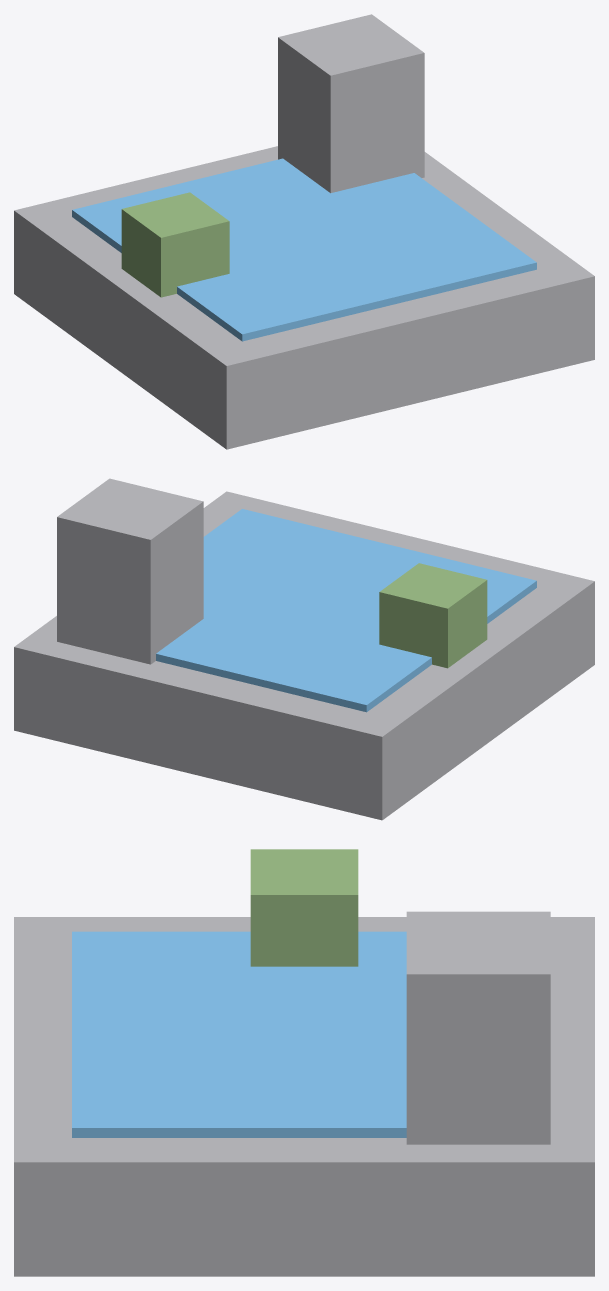
Rendered from Prop_Water_AMF_SpringBasin_V7.glb.
The picture shows the model from 3 angles, top to bottom: view 1: azimuth 30°, elevation 25°; view 2: azimuth 150°, elevation 25°; view 3: azimuth 270°, elevation 25°; orthographic projection. The views are drawn at different scales.
Visible parts, largest first — view 1: Prop_Water_AMF_SpringBasin_V7; view 2: Prop_Water_AMF_SpringBasin_V7; view 3: Prop_Water_AMF_SpringBasin_V7.
Boxes of the visible parts, left/top/right/bottom form: Prop_Water_AMF_SpringBasin_V7: left=14, top=14, right=594, bottom=449; Prop_Water_AMF_SpringBasin_V7: left=14, top=478, right=594, bottom=820; Prop_Water_AMF_SpringBasin_V7: left=14, top=849, right=594, bottom=1276.
Bounding box in the file's own units: 1.61 × 0.8721 × 1.61.
